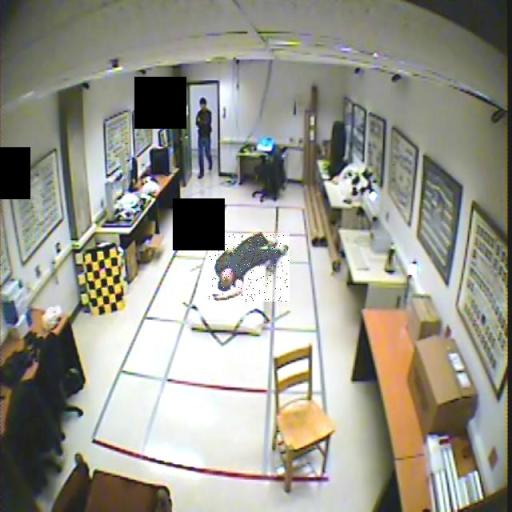Fall: (209, 233, 290, 302)
